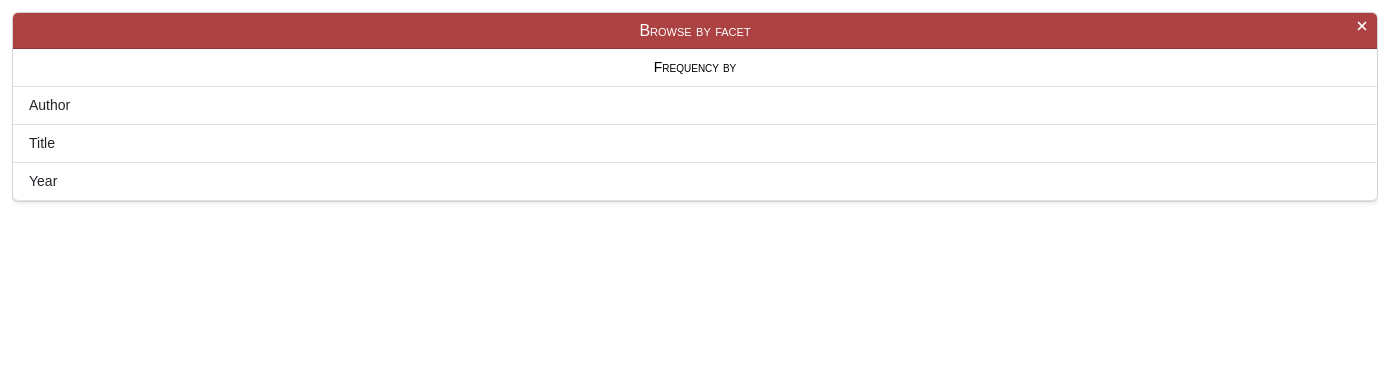
Test: Facets › re-shows the facet-selection list when 'show options' is clicked
Click the button with class "facet-selection" showing "Author" at (50, 105), box 13,86 -> 1377,125
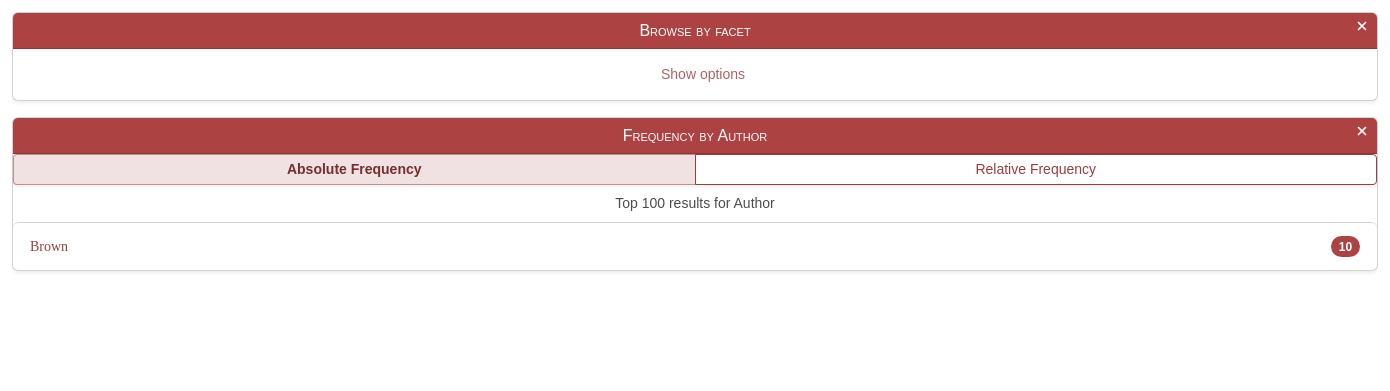
Click the button "Show options" at (700, 75), box 21,57 -> 1378,92
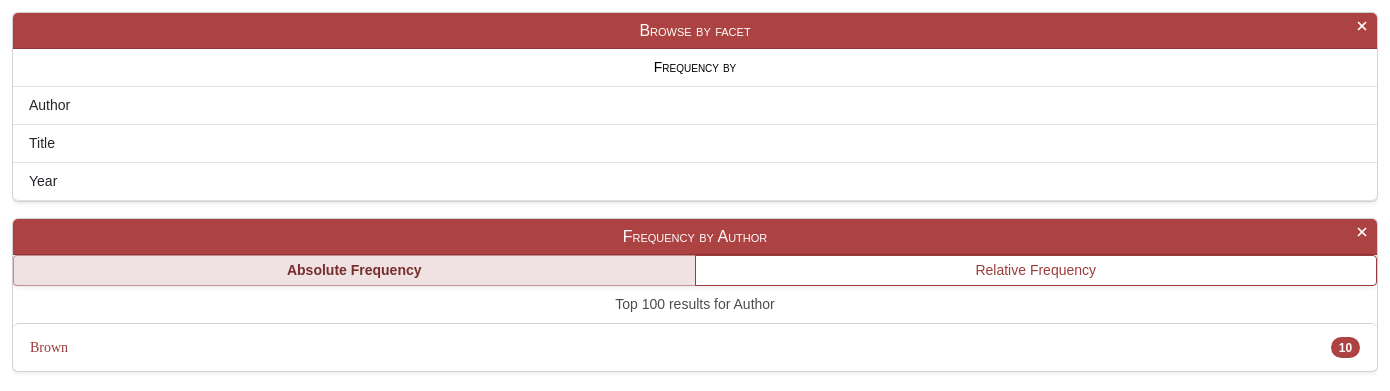
Check: the element with id "select-facets" is shown, box 13,49 -> 1377,201
